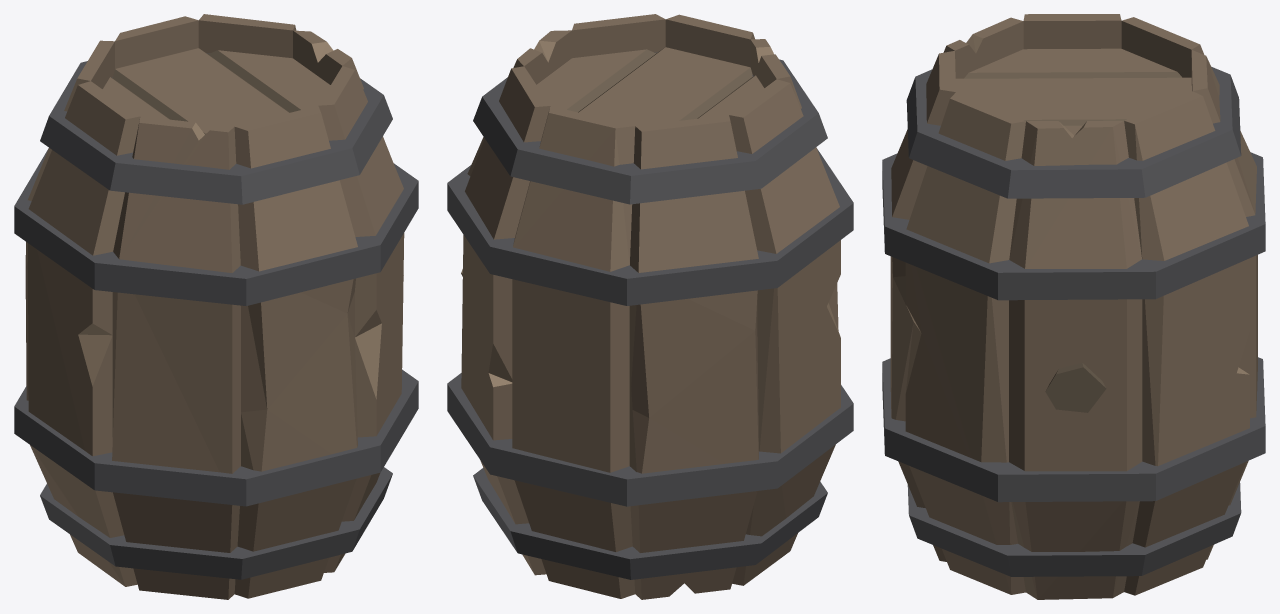
File: SM_Prop_Barrel_04.glb
3 views of the same model, side by side, from view 1: azimuth 30°, elevation 25°; view 2: azimuth 150°, elevation 25°; view 3: azimuth 270°, elevation 25° (orthographic).
Visible parts, largest first — view 1: SM_Prop_Barrel_04_part00; view 2: SM_Prop_Barrel_04_part00; view 3: SM_Prop_Barrel_04_part00.
Boxes of the visible parts, x1=… form: SM_Prop_Barrel_04_part00: x1=14, y1=14, x2=418, y2=599; SM_Prop_Barrel_04_part00: x1=447, y1=14, x2=853, y2=599; SM_Prop_Barrel_04_part00: x1=882, y1=14, x2=1265, y2=599.
Bounding box in the file's own units: 0.6192 × 0.8191 × 0.6035.
Materials: 1 (1 with a texture image).
